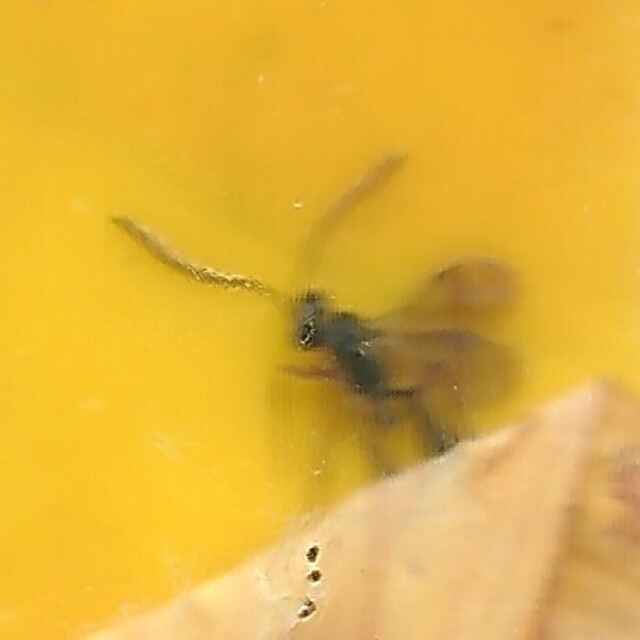Hymenoptera: (114, 155, 526, 485)
